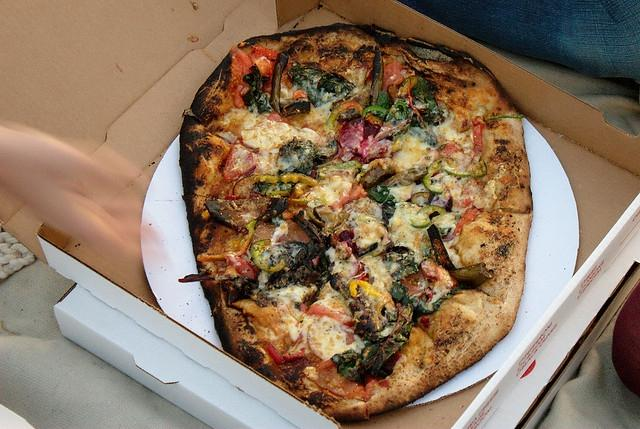bell pepper: (196, 220, 257, 262), (324, 102, 384, 128), (250, 239, 286, 275), (421, 157, 455, 195), (404, 76, 426, 128), (253, 172, 320, 186), (409, 204, 447, 228), (443, 160, 488, 177), (287, 182, 308, 215), (348, 280, 381, 298), (361, 106, 388, 118), (334, 160, 362, 168)
tomato: (218, 137, 255, 184), (248, 46, 278, 94), (315, 365, 359, 397), (224, 254, 256, 290), (230, 46, 252, 96), (338, 118, 365, 154), (307, 304, 353, 323), (452, 208, 479, 237), (382, 59, 404, 92), (434, 265, 458, 289), (262, 342, 285, 364), (472, 116, 485, 154)
